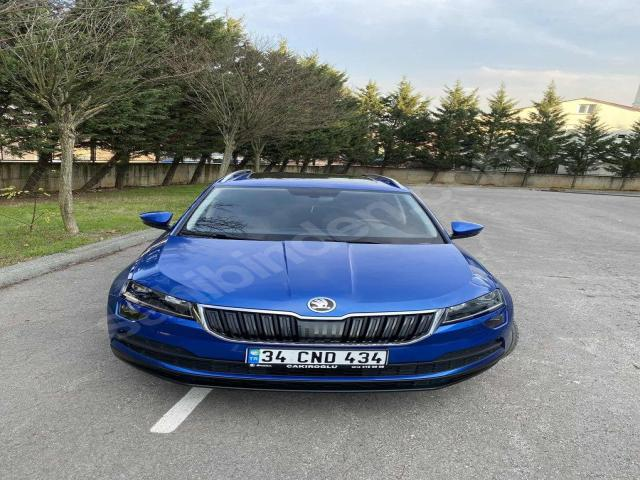plaka: (246, 348, 388, 367)
